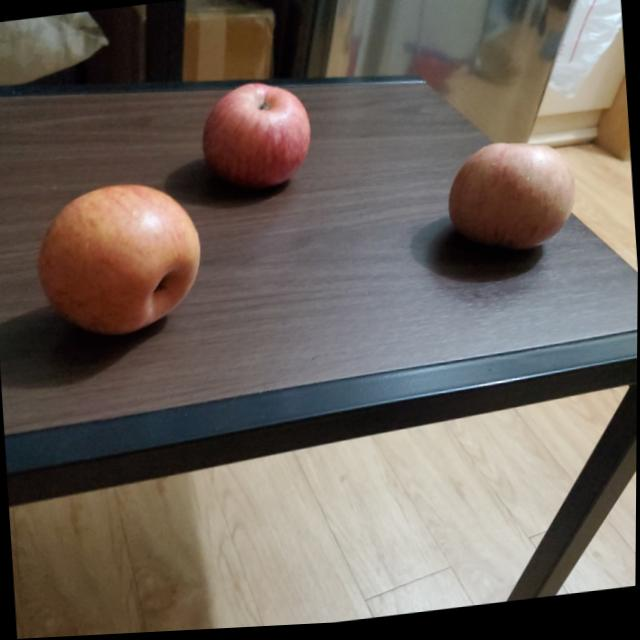apple: (36, 174, 209, 349), (445, 138, 578, 259), (201, 80, 316, 197)
